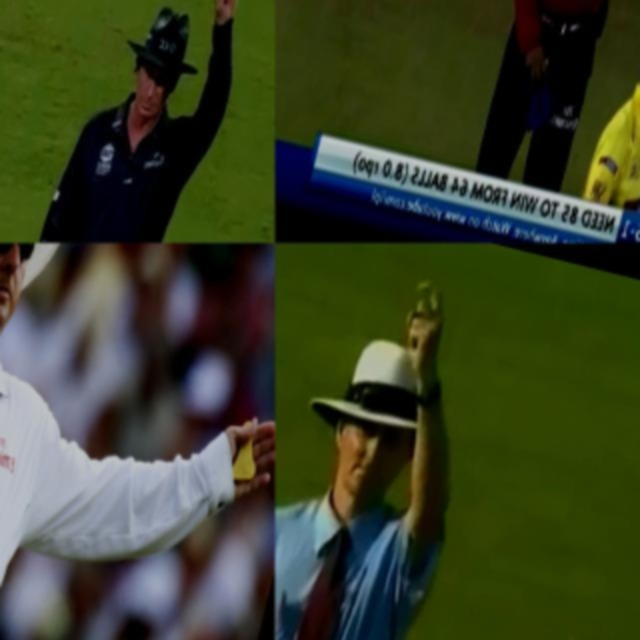Out: (275, 243, 510, 640), (20, 0, 271, 243), (460, 0, 640, 243)
Wide: (0, 243, 275, 640)
